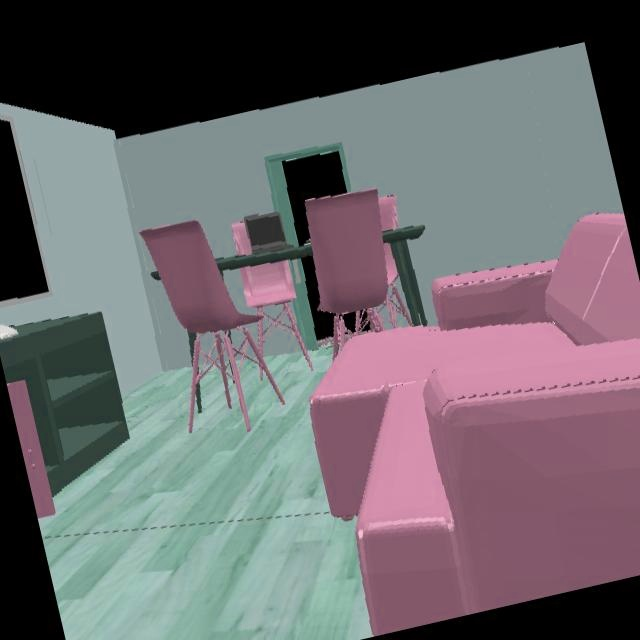bookshelf: (0, 312, 129, 491)
chair: (141, 220, 309, 431), (305, 189, 398, 354), (232, 225, 253, 254)
laptop: (244, 210, 291, 253)
monitor: (0, 116, 51, 306), (0, 326, 15, 338)
sofa: (310, 213, 640, 634)
table: (384, 225, 427, 325), (215, 244, 312, 274)
